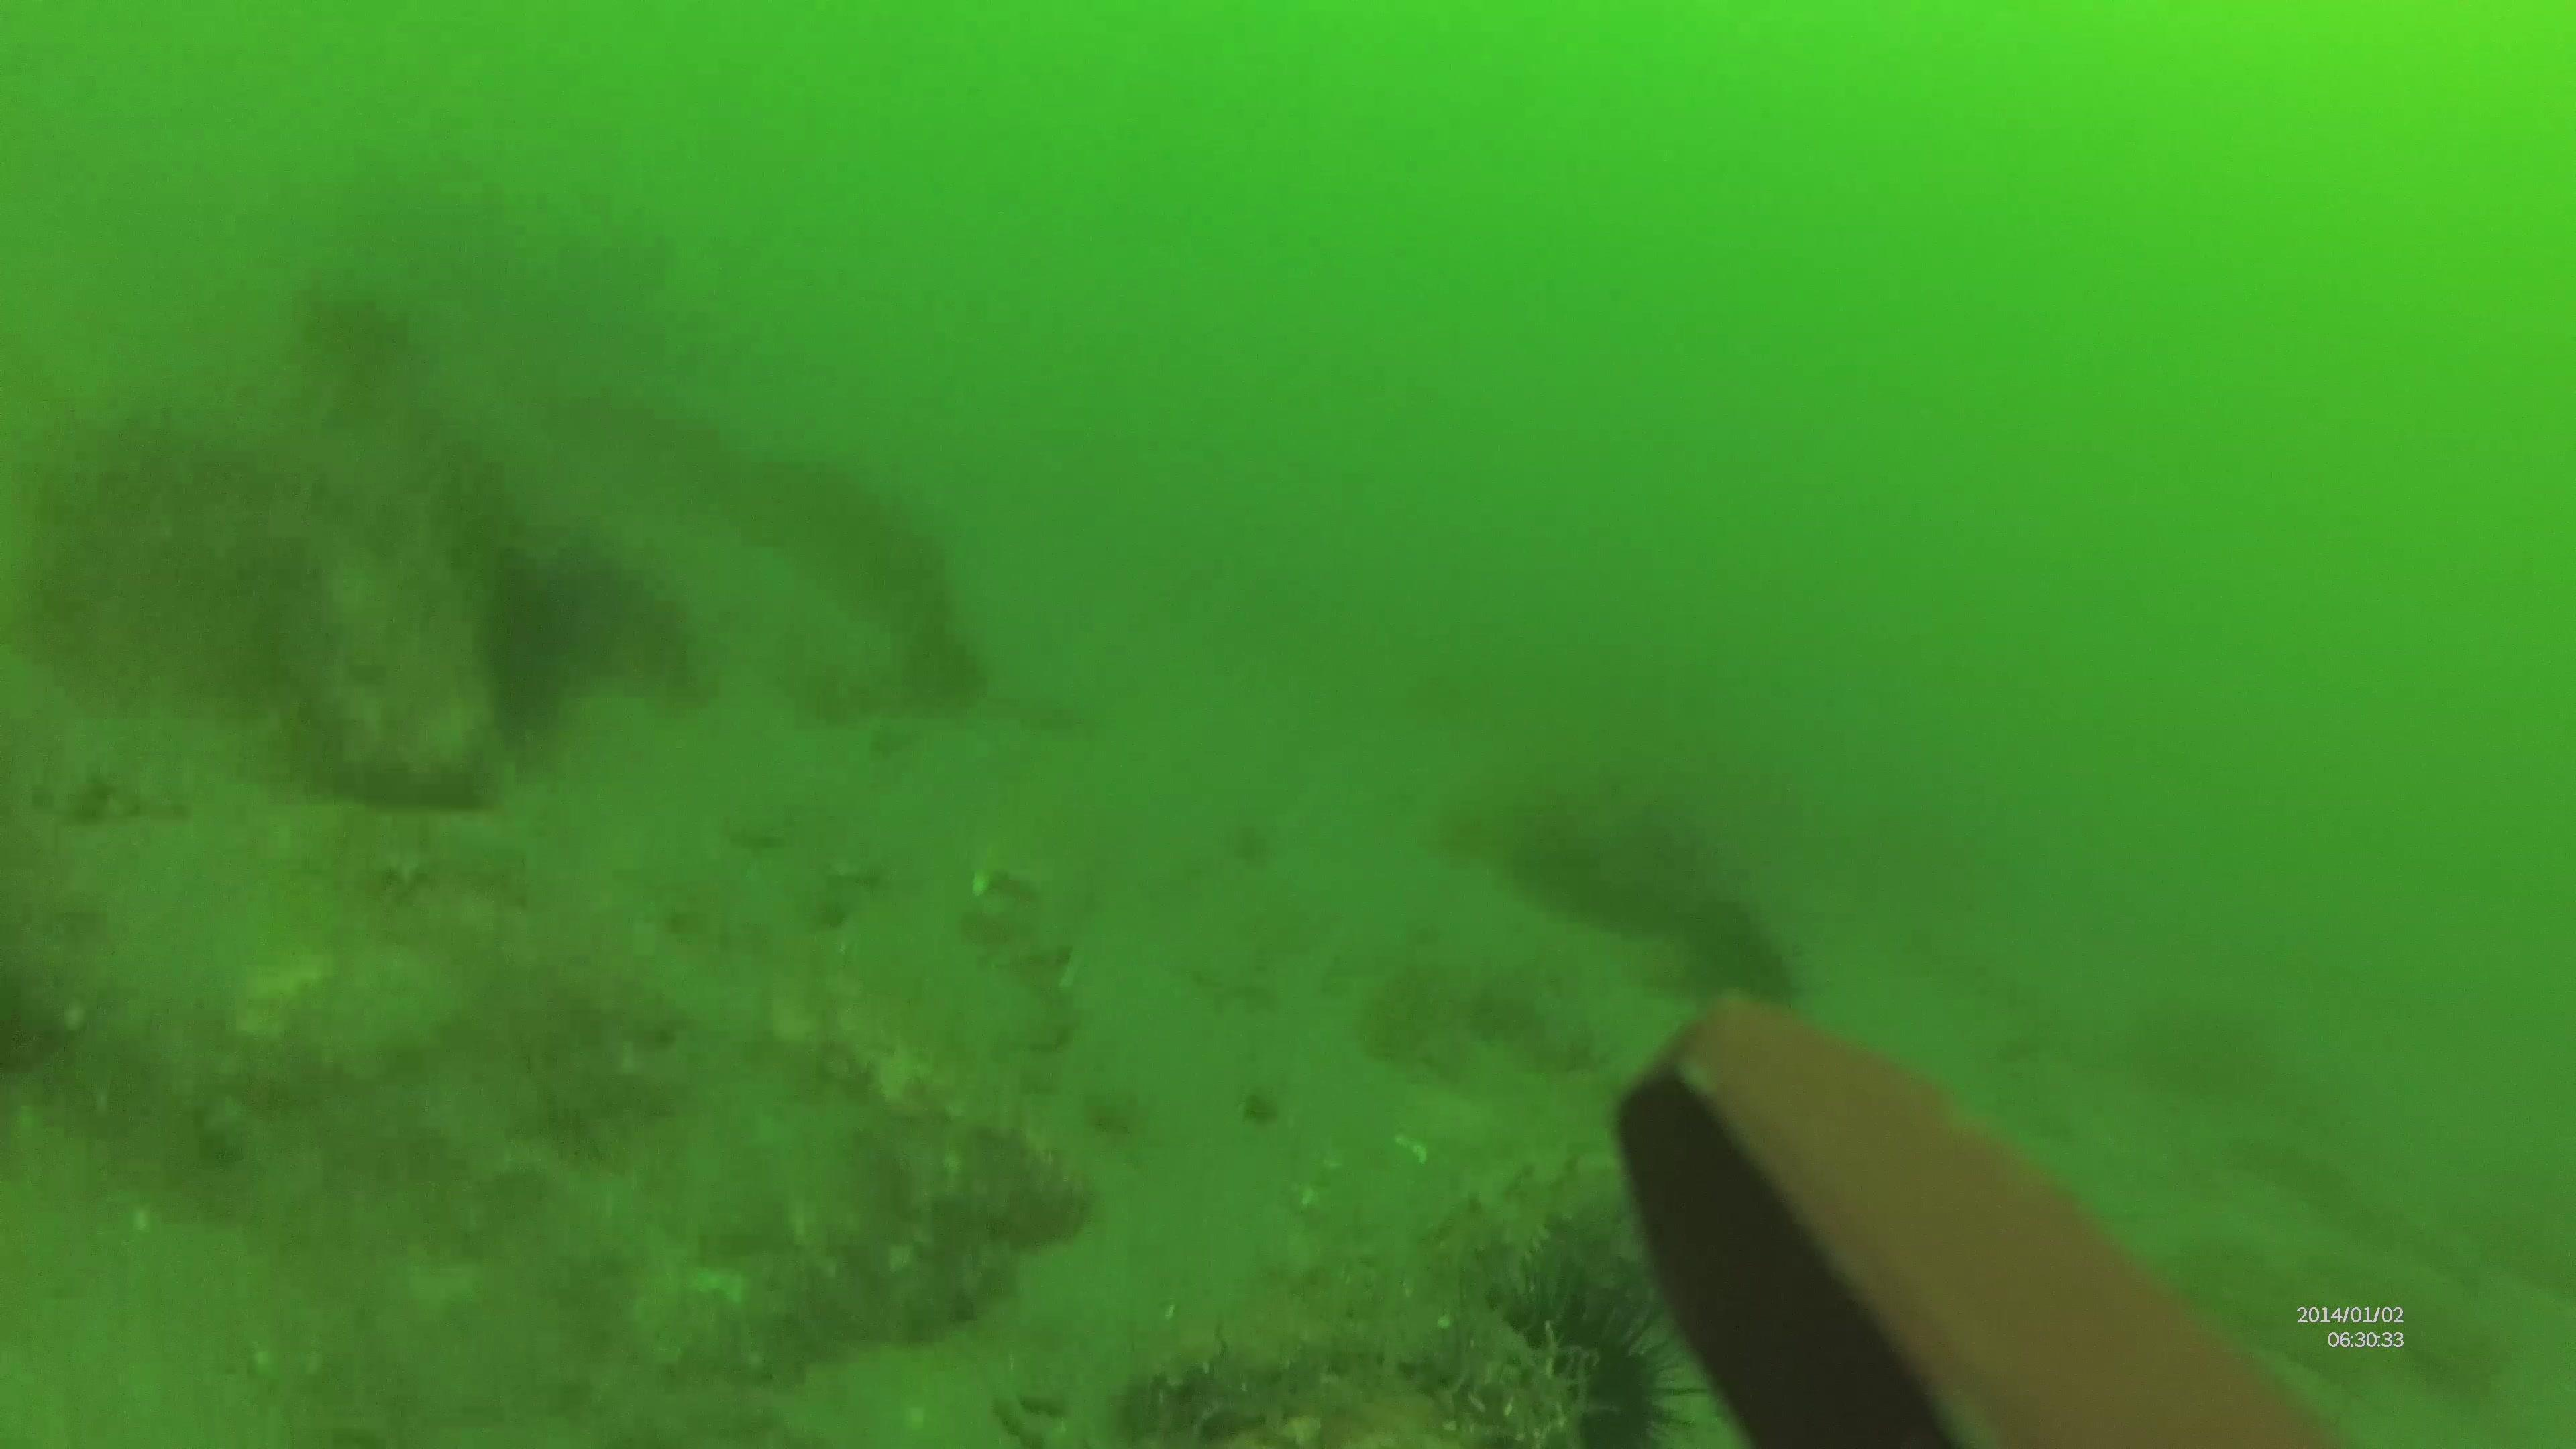echinus: (1495, 1253, 1709, 1449)
